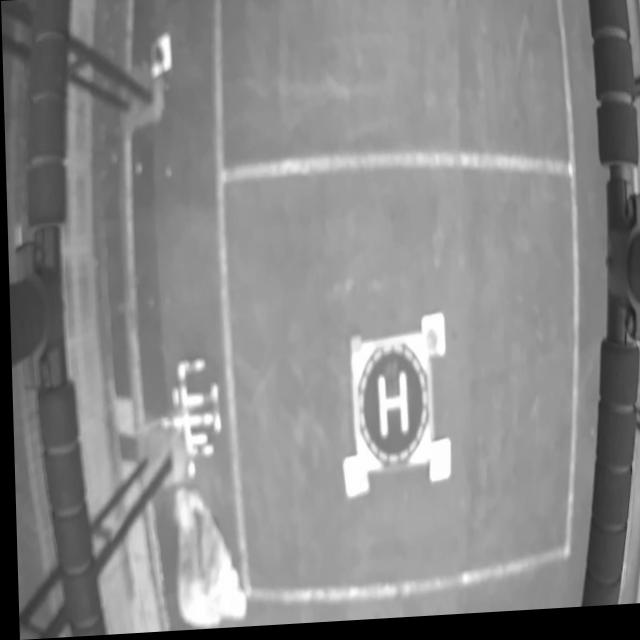Helipad: (374, 376, 405, 442)
